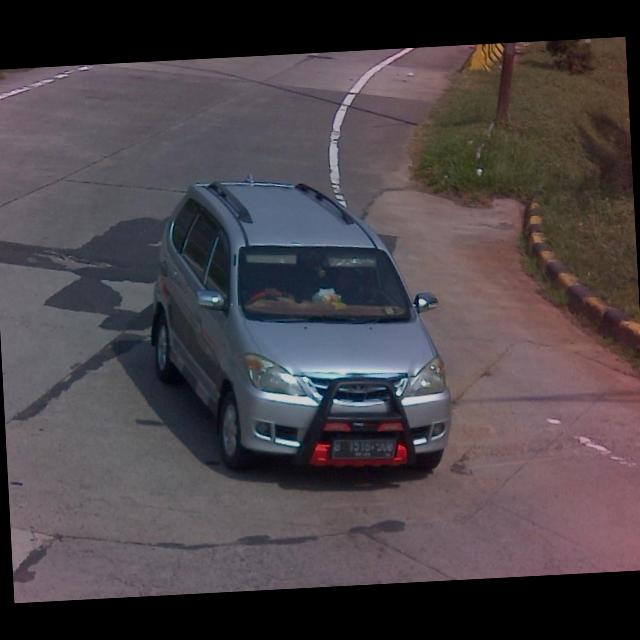plate: (331, 436, 399, 464)
